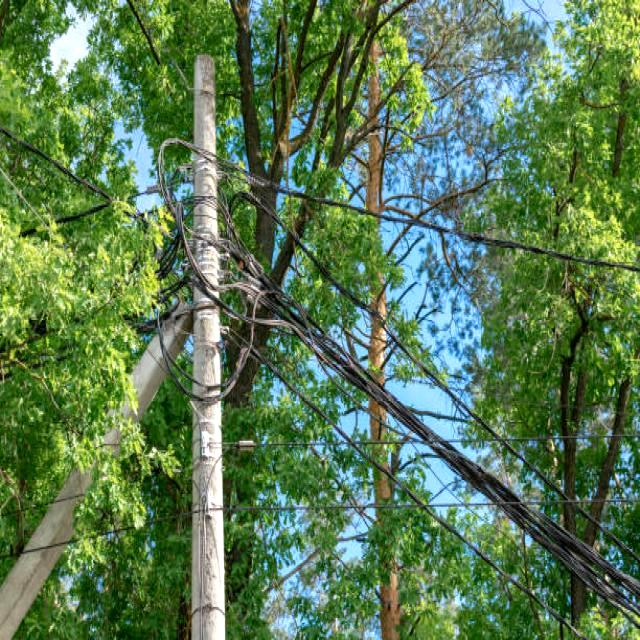Broken Pole: (0, 295, 193, 636)
